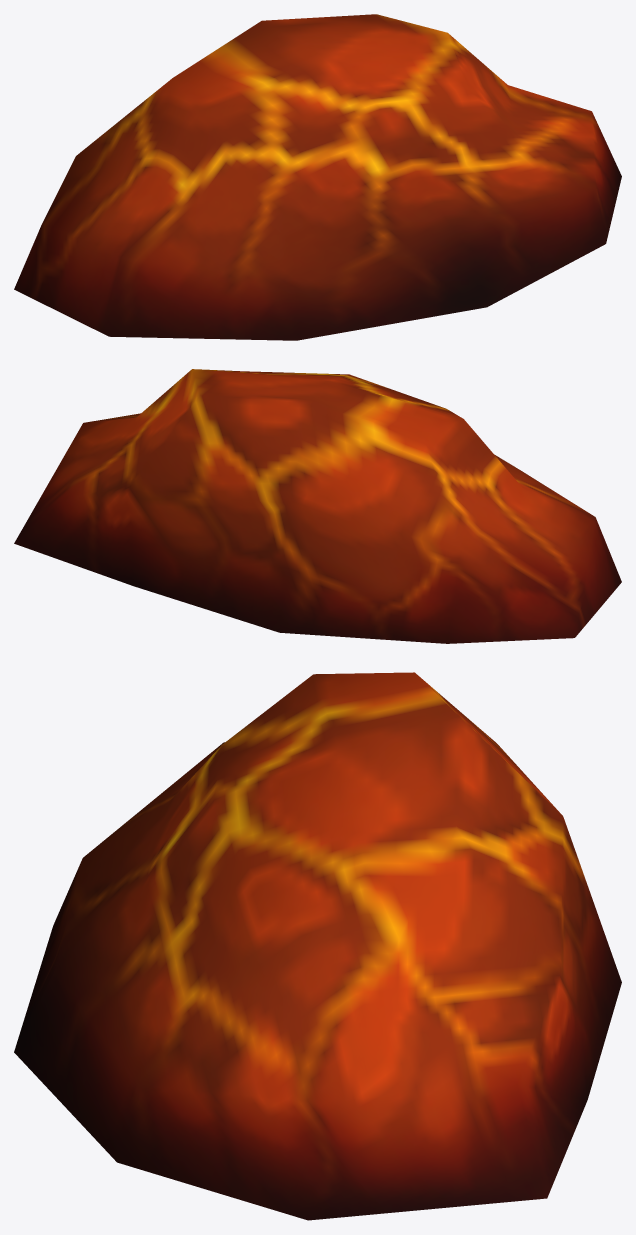
The model's file is Lava_Rock_01b.FBX.
The picture shows the model from 3 angles, top to bottom: view 1: azimuth 30°, elevation 25°; view 2: azimuth 150°, elevation 25°; view 3: azimuth 270°, elevation 25°; orthographic projection. The views are drawn at different scales.
Parts seen in each view (by area): view 1: Lava_Rock_01b; view 2: Lava_Rock_01b; view 3: Lava_Rock_01b.
Part boxes in pixels (left/top/right/bottom): Lava_Rock_01b: left=14, top=14, right=621, bottom=340; Lava_Rock_01b: left=14, top=369, right=621, bottom=643; Lava_Rock_01b: left=14, top=672, right=621, bottom=1220.
Size of the model in its own units: 62.61 by 20.21 by 39.35.
